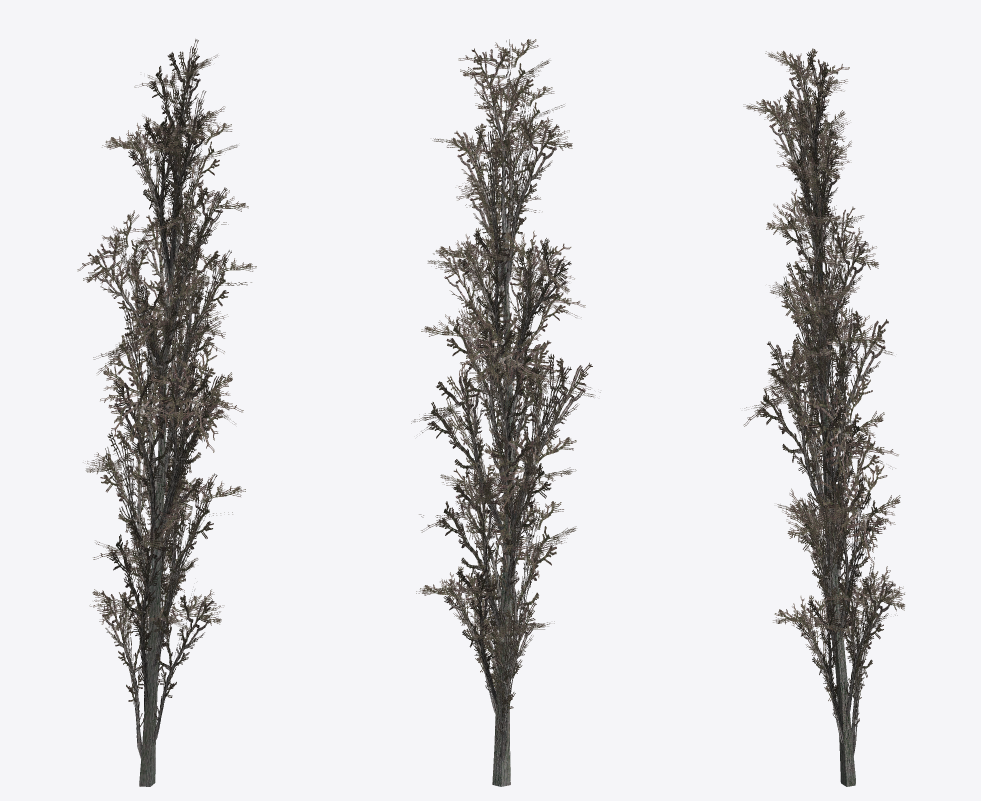
Rendered from flora_tree_poplar_lombardy_dead_v3.glb.
3 views of the same model, side by side, from view 1: azimuth 30°, elevation 25°; view 2: azimuth 150°, elevation 25°; view 3: azimuth 270°, elevation 25° (orthographic). The views are drawn at different scales.
Visible parts, largest first — view 1: flora_tree_poplar_lombardy_dead_v3_part0; view 2: flora_tree_poplar_lombardy_dead_v3_part0; view 3: flora_tree_poplar_lombardy_dead_v3_part0.
Part boxes in pixels (bbox=[...]): flora_tree_poplar_lombardy_dead_v3_part0: bbox=[77, 39, 256, 786]; flora_tree_poplar_lombardy_dead_v3_part0: bbox=[411, 39, 600, 786]; flora_tree_poplar_lombardy_dead_v3_part0: bbox=[743, 48, 904, 786].
Size of the model in its own units: 8.83 by 23.85 by 7.99.
Materials: 1 (1 with a texture image).
